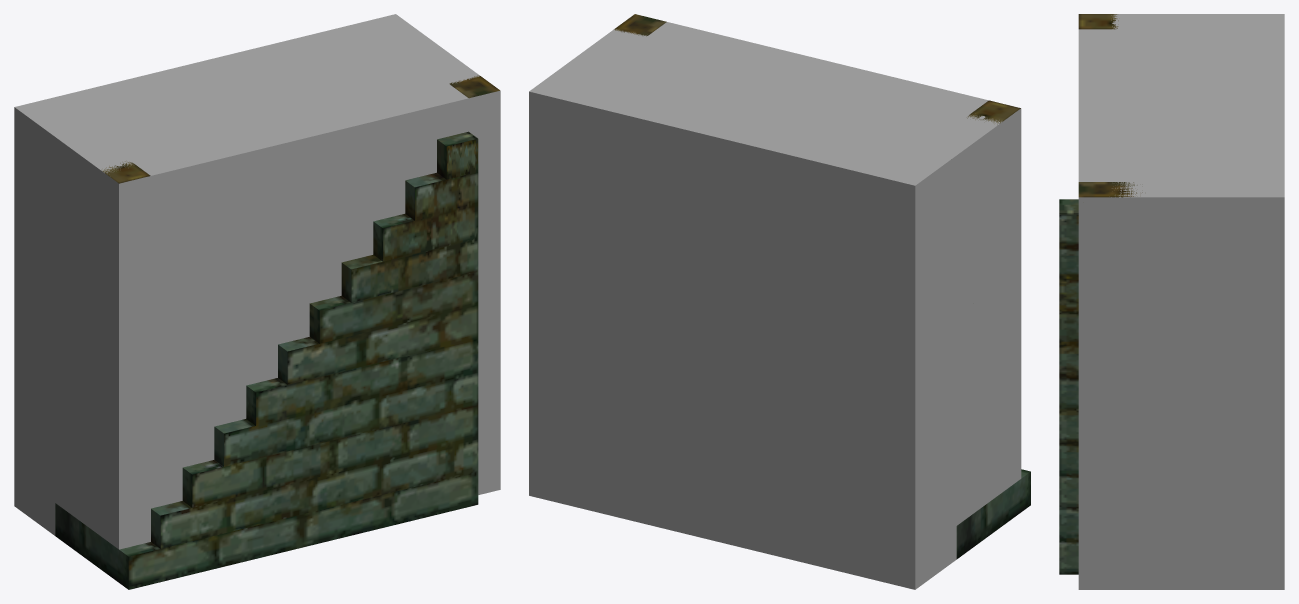
The model's file is sewerWallStairs.fbx.
The picture shows the model from 3 angles, left to right: view 1: azimuth 30°, elevation 25°; view 2: azimuth 150°, elevation 25°; view 3: azimuth 270°, elevation 25°; orthographic projection. The views are drawn at different scales.
Visible parts, largest first — view 1: mvcv_obb_sewerWallStairsQ_01, sewerWallStairs, sewerWallStairsQ; view 2: mvcv_obb_sewerWallStairsQ_01, sewerWallStairs, sewerWallStairsQ; view 3: mvcv_obb_sewerWallStairsQ_01, sewerWallStairs, sewerWallStairsQ.
Boxes of the visible parts, left/top/right/bottom form: mvcv_obb_sewerWallStairsQ_01: left=14, top=14, right=500, bottom=549; sewerWallStairs: left=55, top=131, right=478, bottom=589; sewerWallStairsQ: left=102, top=75, right=499, bottom=183; mvcv_obb_sewerWallStairsQ_01: left=529, top=22, right=1021, bottom=589; sewerWallStairs: left=956, top=469, right=1030, bottom=559; sewerWallStairsQ: left=614, top=14, right=1020, bottom=124; mvcv_obb_sewerWallStairsQ_01: left=1078, top=14, right=1284, bottom=589; sewerWallStairs: left=1059, top=199, right=1078, bottom=574; sewerWallStairsQ: left=1078, top=14, right=1142, bottom=197.
Size of the model in its own units: 300 by 300 by 156.
Materials: 4 (3 with a texture image).
